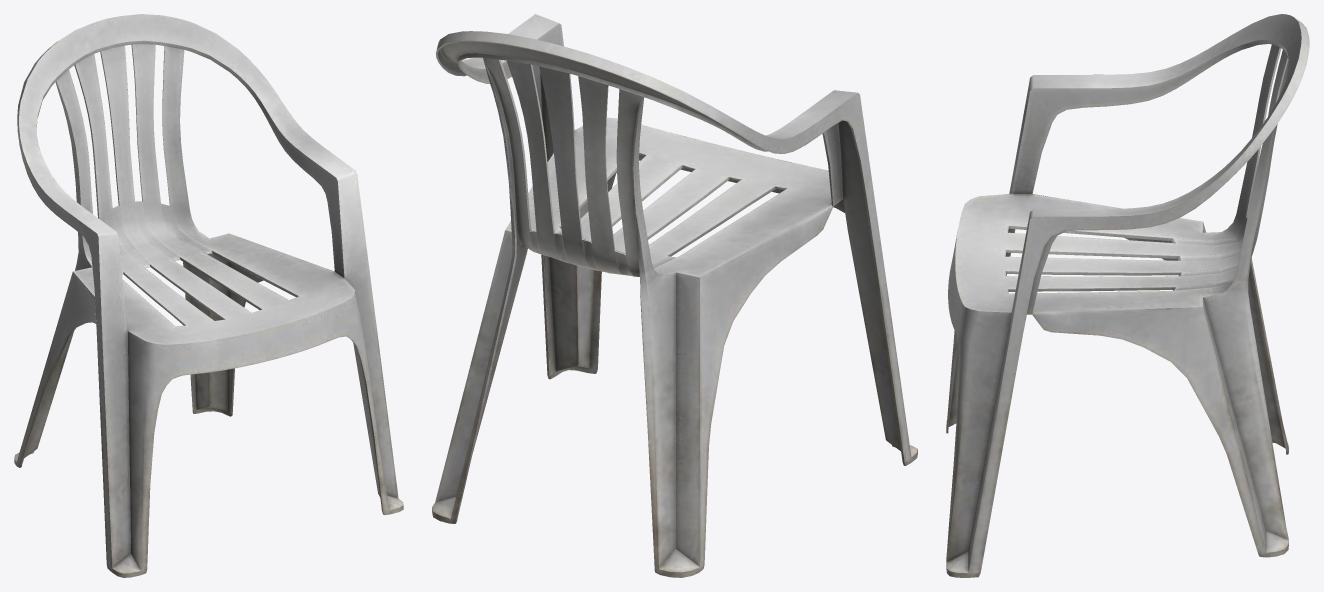
Rendered from plastic_monobloc_chair_01.glb.
3 views of the same model, side by side, from view 1: azimuth 30°, elevation 25°; view 2: azimuth 150°, elevation 25°; view 3: azimuth 270°, elevation 25° (orthographic). The views are drawn at different scales.
Visible parts, largest first — view 1: plastic_monobloc_chair_01; view 2: plastic_monobloc_chair_01; view 3: plastic_monobloc_chair_01.
Part boxes in pixels (x1,y1,x2,y2): plastic_monobloc_chair_01: [14, 14, 403, 577]; plastic_monobloc_chair_01: [432, 14, 917, 577]; plastic_monobloc_chair_01: [946, 14, 1309, 577].
Bounding box in the file's own units: 0.6419 × 0.8798 × 0.6277.
1 material, 1 textured.
